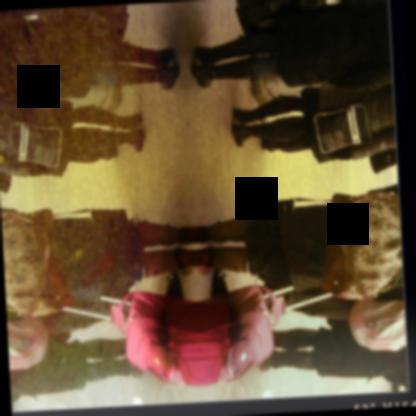backpack: (346, 287, 405, 352)
handbag: (319, 189, 402, 299), (311, 86, 389, 154)
suitcase: (166, 283, 330, 386)
